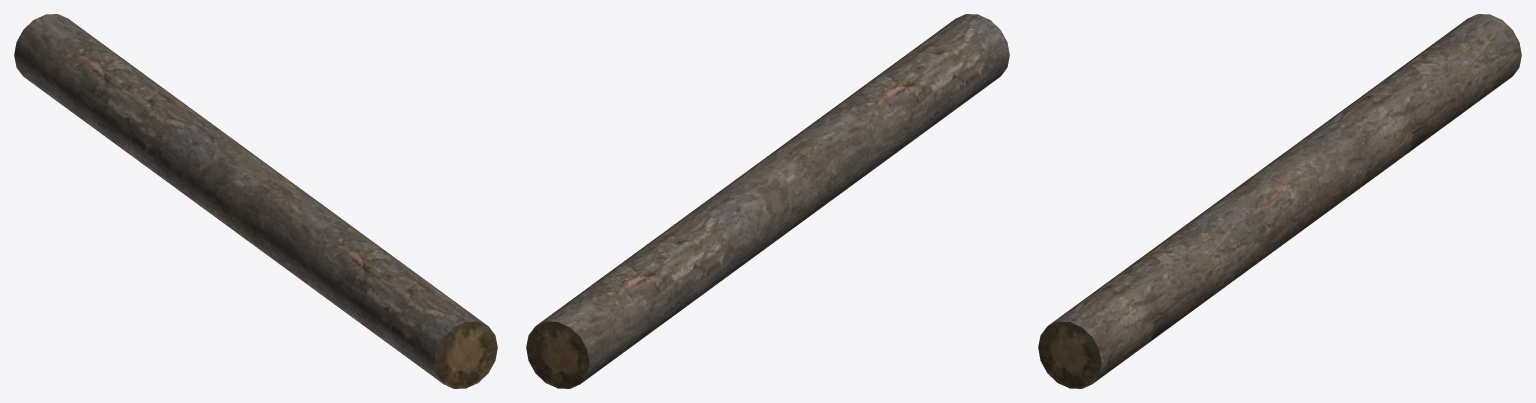
Rendered from SupportWoodC_S.glb.
3 renders of one model, left to right at view 1: azimuth 30°, elevation 25°; view 2: azimuth 150°, elevation 25°; view 3: azimuth 330°, elevation 25°, orthographic.
Parts seen in each view (by area): view 1: SupportWoodC_S; view 2: SupportWoodC_S; view 3: SupportWoodC_S.
Part boxes in pixels (bbox=[...]): SupportWoodC_S: bbox=[14, 14, 497, 388]; SupportWoodC_S: bbox=[526, 14, 1009, 388]; SupportWoodC_S: bbox=[1038, 14, 1521, 388].
Size of the model in its own units: 0.1 by 0.1 by 1.15.
Materials: 1 (1 with a texture image).
